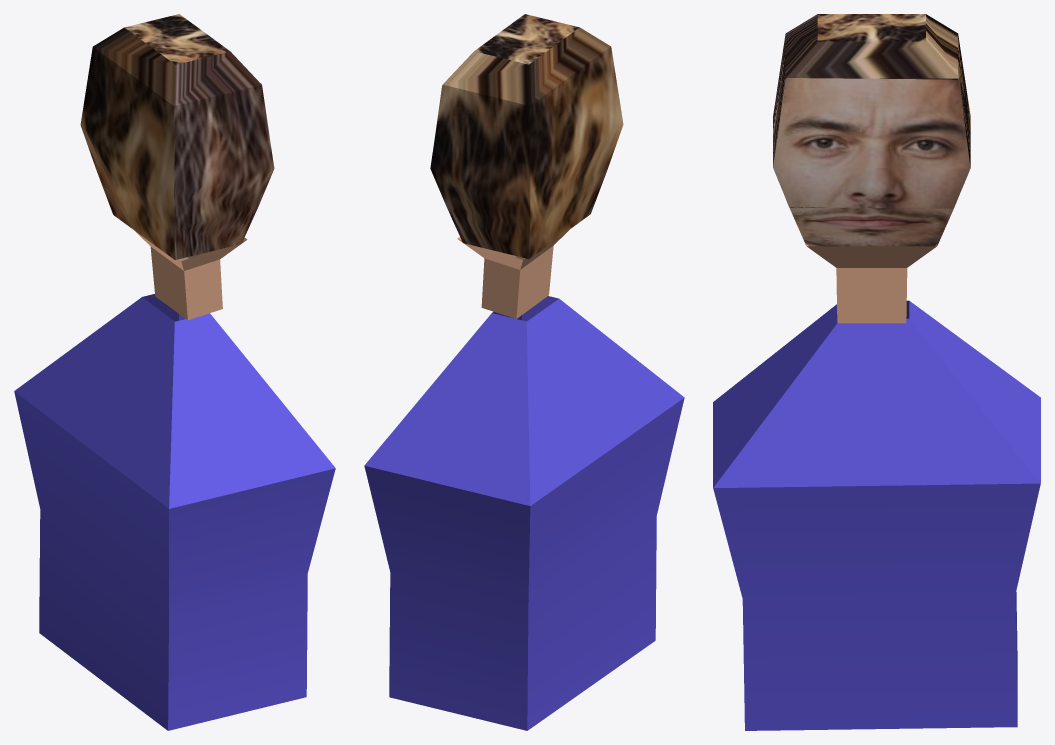
Rendered from patientwithanim.fbx.
3 renders of one model, left to right at view 1: azimuth 30°, elevation 25°; view 2: azimuth 150°, elevation 25°; view 3: azimuth 270°, elevation 25°, orthographic. The views are drawn at different scales.
Visible parts, largest first — view 1: Cube, Cube.003, Cube.004; view 2: Cube, Cube.003, Cube.004; view 3: Cube, Cube.001, Cube.003, Cube.004, Cube.002.
Boxes of the visible parts, left/top/right/bottom form: Cube: left=14, top=294, right=335, bottom=730; Cube.003: left=80, top=14, right=274, bottom=259; Cube.004: left=135, top=231, right=247, bottom=320; Cube: left=364, top=296, right=684, bottom=730; Cube.003: left=430, top=14, right=623, bottom=258; Cube.004: left=457, top=230, right=568, bottom=318; Cube: left=713, top=300, right=1040, bottom=730; Cube.001: left=773, top=78, right=970, bottom=208; Cube.003: left=773, top=14, right=970, bottom=207; Cube.004: left=806, top=244, right=937, bottom=323; Cube.002: left=789, top=208, right=953, bottom=246.
Bounding box in the file's own units: 236 × 853 × 380.
